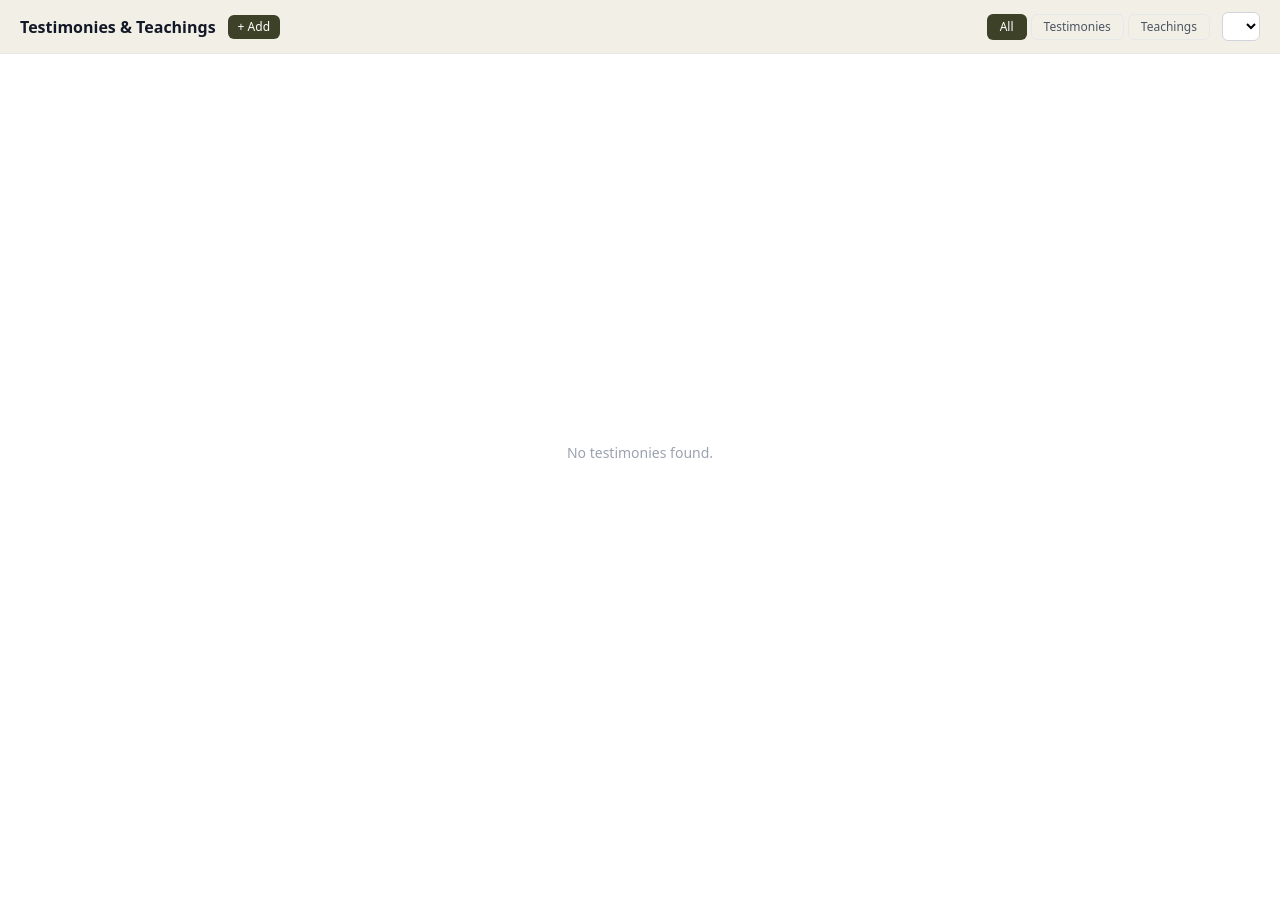
it: Testimonies Kanban — + Add modal › opens the Add modal when + Add is clicked
Click the button with test id "add-needed-item" at (254, 26), box [228, 14, 280, 38]
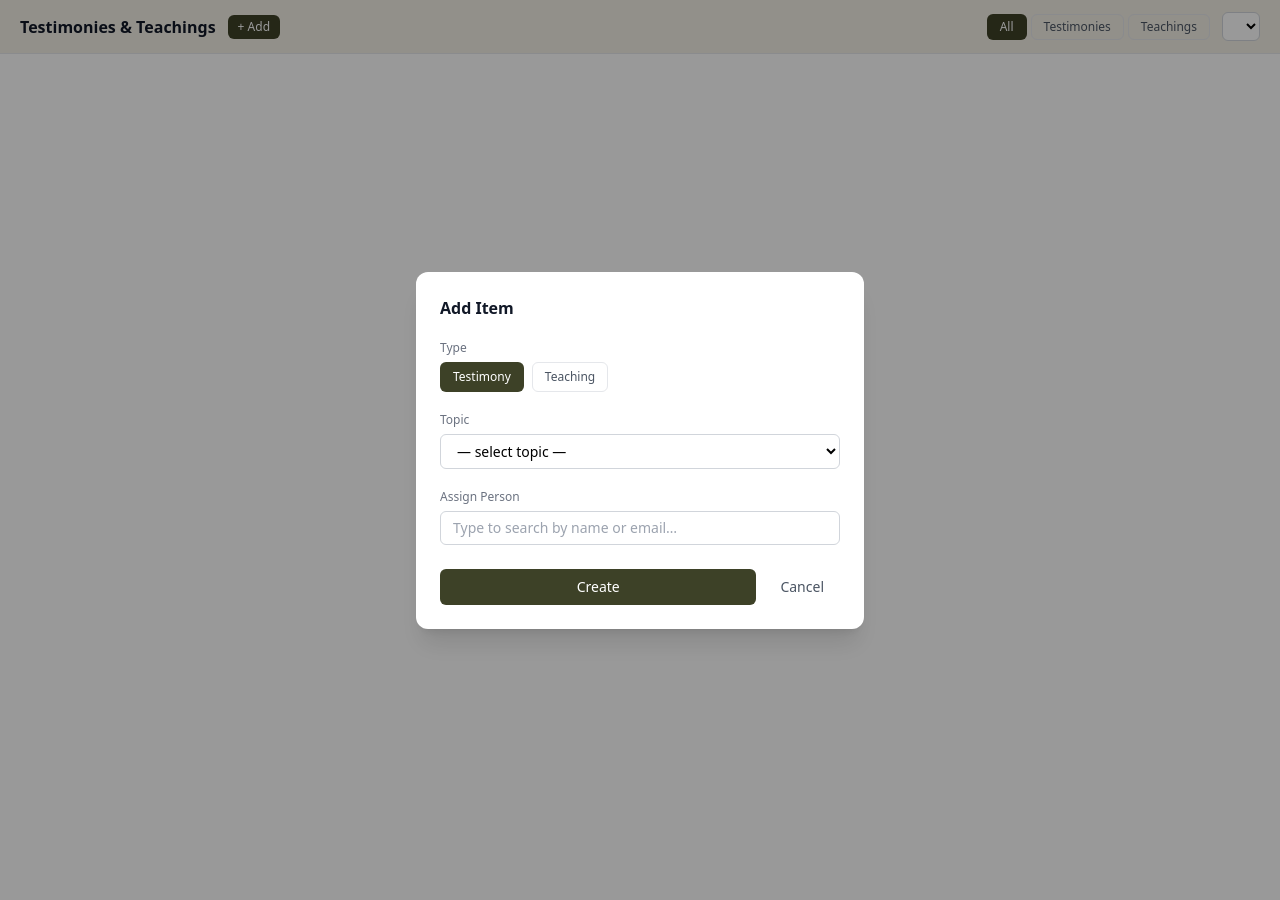
Result: the dialog is shown
Result: the heading "Add Item" is shown at [440, 296, 514, 318]
